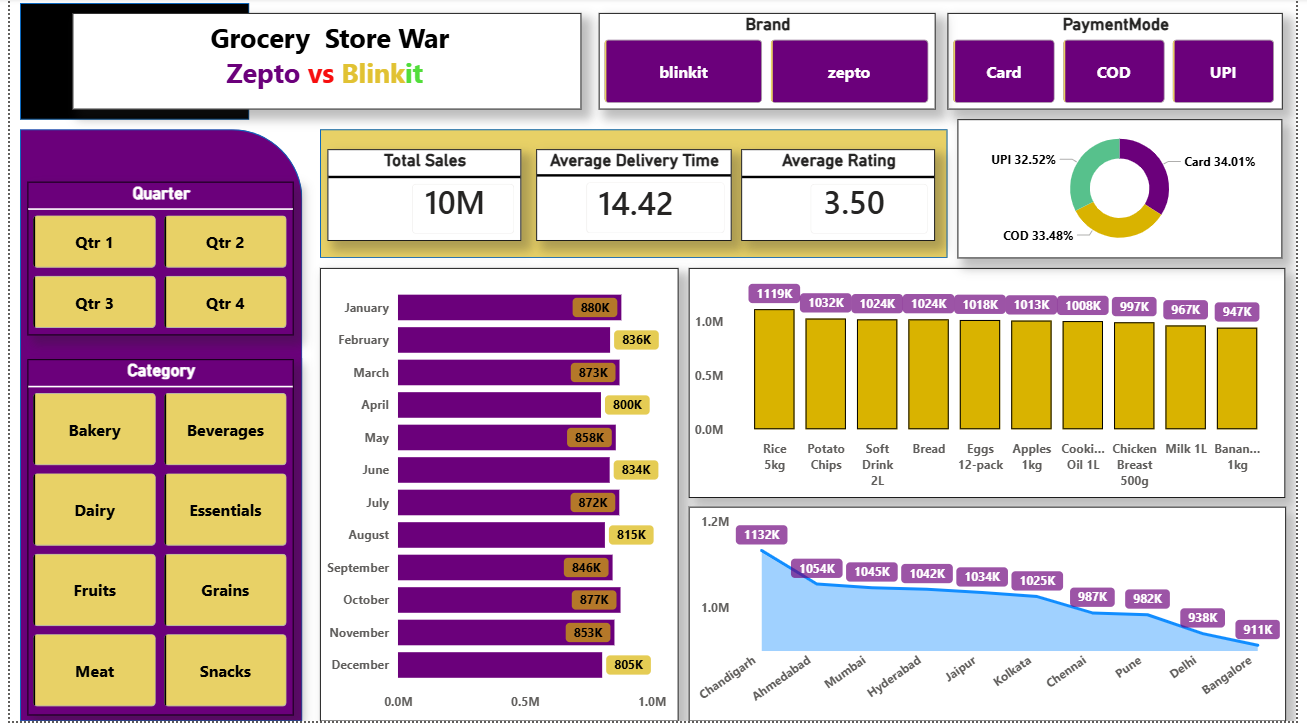

The page's visual inventory and layout, read from the dashboard file:
{"tool":"powerbi","page":{"name":"Page 1","canvas":[1280,720],"ordinal":0},"visuals":[{"type":"shape","box":[9.5,131.1,281.1,589.2],"z":0},{"type":"shape","box":[9.5,5.4,228.4,116.2],"z":1000},{"type":"textbox","box":[62.2,14.9,506.8,95.9],"z":2000},{"type":"advancedSlicerVisual","fields":{"Values":["Sheet1.paymentmode"]},"box":[932.4,14.9,333.8,95.9],"z":3000},{"type":"advancedSlicerVisual","fields":{"Values":["Sheet1.Brand"]},"box":[586.5,14.9,335.1,95.9],"z":4000},{"type":"advancedSlicerVisual","fields":{"Values":["Sheet1.Date.Variation.Date Hierarchy.Quarter"]},"box":[17.6,182.4,264.9,152.7],"z":5000},{"type":"advancedSlicerVisual","fields":{"Values":["Sheet1.Category"]},"box":[17.6,359.5,264.9,354.1],"z":6000},{"type":"shape","box":[308.5,130.6,624.5,128.1],"z":7000},{"type":"cardVisual","title":"Total Sales","fields":{"Data":["Sum(Sheet1.Amount)"]},"box":[316,150.5,192.8,90.8],"z":8000},{"type":"cardVisual","title":"Average Delivery Time","fields":{"Data":["Avg(Sheet1.Deliverytime(min))"]},"box":[523.7,150.5,194.1,90.8],"z":9000},{"type":"cardVisual","title":"Average Rating","fields":{"Data":["Avg(Sheet1.rating)"]},"box":[727.7,150.5,192.8,90.8],"z":10000},{"type":"clusteredBarChart","fields":{"Category":["Sheet1.Date.Variation.Date Hierarchy.Month"],"Y":["Sum(Sheet1.Amount)"]},"box":[308.5,268.7,357,451.6],"z":11000},{"type":"columnChart","fields":{"Category":["Sheet1.Product"],"Y":["Sum(Sheet1.Amount)"]},"box":[675.5,268.7,593.4,228.9],"z":12000},{"type":"areaChart","fields":{"Y":["Sum(Sheet1.Amount)"],"Category":["Sheet1.City"]},"box":[675.5,506.3,594.6,214],"z":13000},{"type":"donutChart","fields":{"Y":["Sum(Sheet1.Amount)"],"Category":["Sheet1.PaymentMode"]},"box":[942.9,120.7,323.4,138.1],"z":14000}]}

Visuals, with their boxes in screenshot pixels (x1, y1, x2, y2), scaled from the page's 1280x720 canvas onto the 1307x728 screenshot:
shape: box(10, 133, 297, 727)
shape: box(10, 5, 243, 123)
textbox: box(64, 15, 581, 112)
advancedSlicerVisual - Sheet1.paymentmode: box(952, 15, 1293, 112)
advancedSlicerVisual - Sheet1.Brand: box(599, 15, 941, 112)
advancedSlicerVisual - Sheet1.Date.Variation.Date Hierarchy.Quarter: box(18, 184, 288, 339)
advancedSlicerVisual - Sheet1.Category: box(18, 363, 288, 722)
shape: box(315, 132, 953, 262)
"Total Sales" cardVisual: box(323, 152, 520, 244)
"Average Delivery Time" cardVisual: box(535, 152, 733, 244)
"Average Rating" cardVisual: box(743, 152, 940, 244)
clusteredBarChart - Sheet1.Date.Variation.Date Hierarchy.Month x Sum(Sheet1.Amount): box(315, 272, 680, 727)
columnChart - Sheet1.Product x Sum(Sheet1.Amount): box(690, 272, 1296, 503)
areaChart - Sum(Sheet1.Amount) x Sheet1.City: box(690, 512, 1297, 727)
donutChart - Sum(Sheet1.Amount) x Sheet1.PaymentMode: box(963, 122, 1293, 262)
